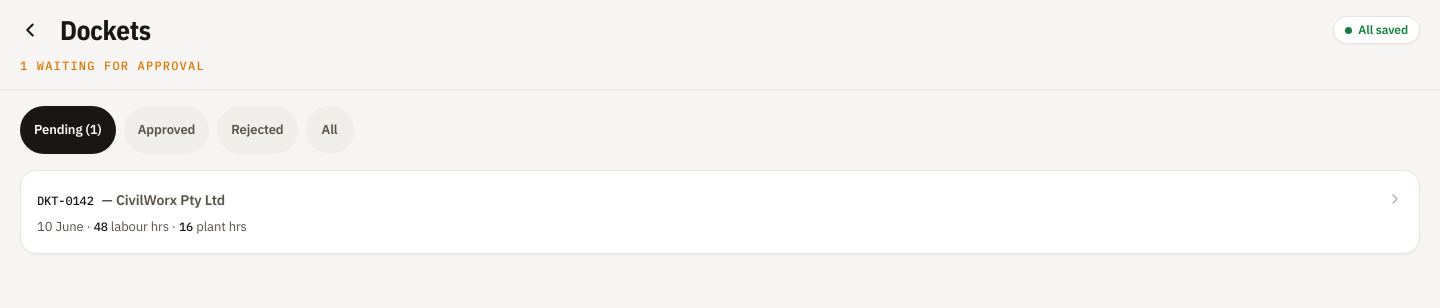
Test: DocketsListScreen › switches filters and shows approved dockets
What coordinates should you click on to do the following:
click the button "Approved"
I would click on:
 (166, 130)
Its box is [124,106,209,154].
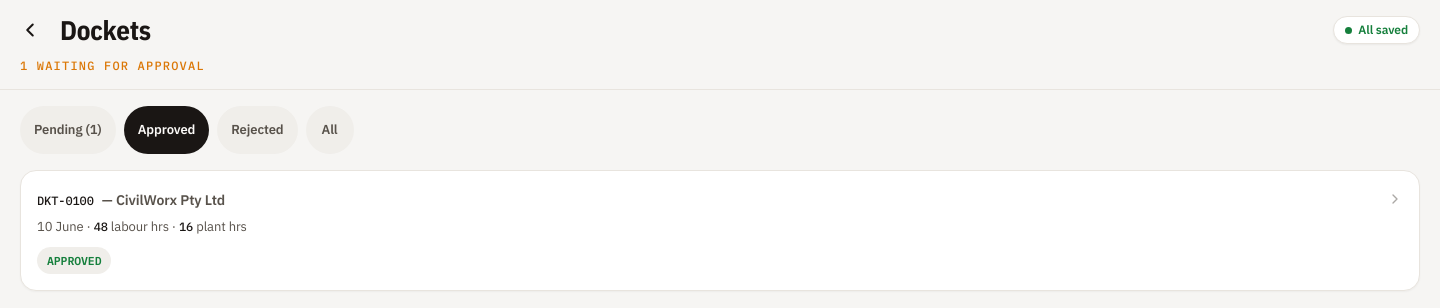
expect the text "DKT-0100" is shown: met, box [37,193,94,208]
expect the button "DKT-0142" is gone: met
